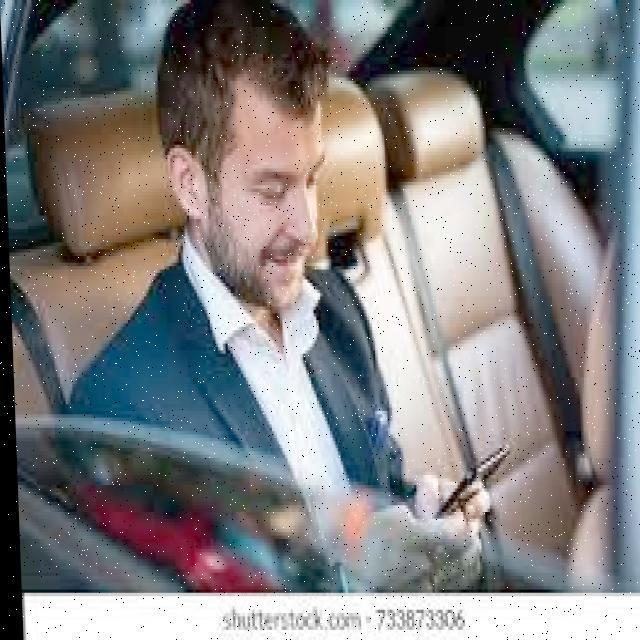noSeatbelt: (150, 276, 386, 530)
